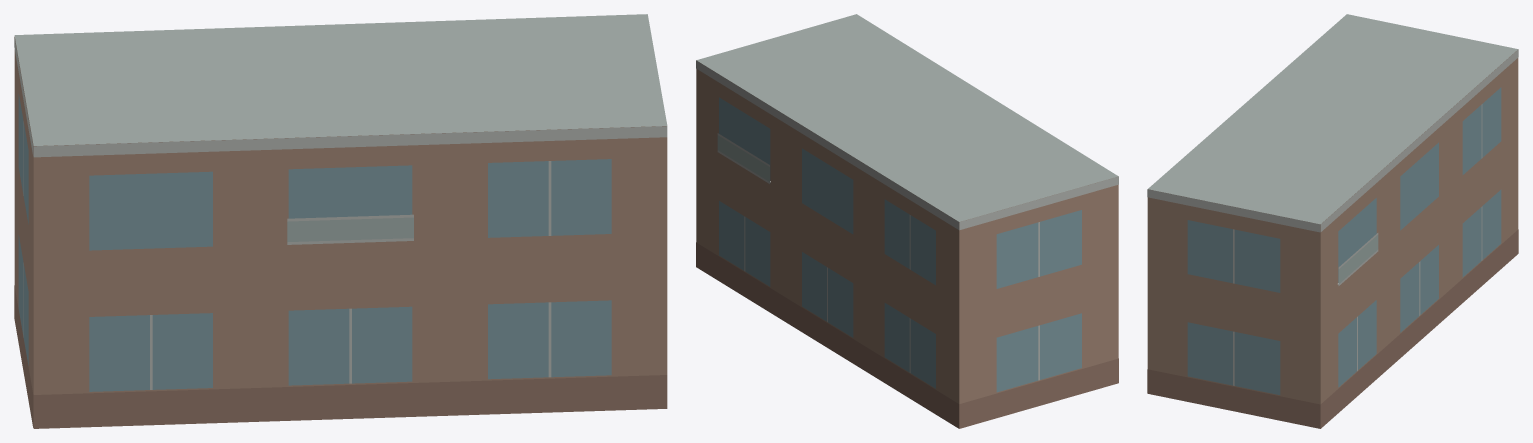
The model's file is survey-upis-32680614.glb.
The picture shows the model from 3 angles, left to right: view 1: azimuth 30°, elevation 25°; view 2: azimuth 150°, elevation 25°; view 3: azimuth 270°, elevation 25°; orthographic projection. The views are drawn at different scales.
Parts seen in each view (by area): view 1: survey-upis-32680614.tmp; view 2: survey-upis-32680614.tmp; view 3: survey-upis-32680614.tmp.
Boxes of the visible parts, left/top/right/bottom form: survey-upis-32680614.tmp: left=14, top=14, right=667, bottom=428; survey-upis-32680614.tmp: left=696, top=14, right=1118, bottom=428; survey-upis-32680614.tmp: left=1147, top=14, right=1518, bottom=428.
Bounding box in the file's own units: 13.46 × 6.1 × 10.04.
